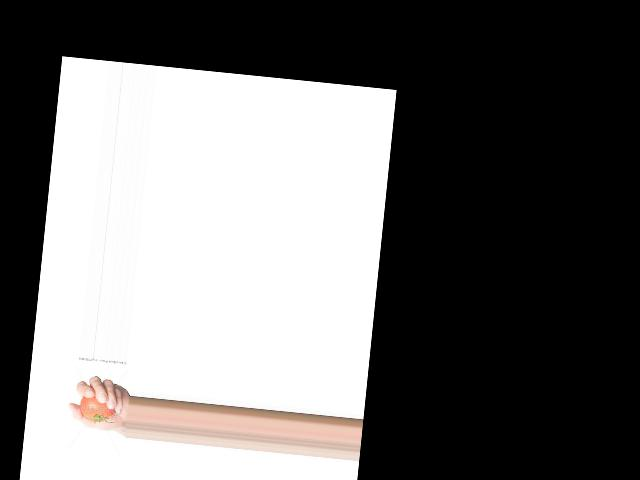tomato: (78, 395, 116, 423)
